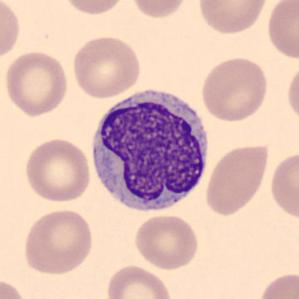Monocyte: (86, 83, 214, 218)
RBC: (202, 141, 270, 217), (21, 207, 94, 276), (199, 55, 270, 123), (70, 34, 143, 100), (22, 136, 92, 203), (3, 48, 70, 117), (132, 213, 201, 271), (195, 0, 270, 36), (103, 262, 174, 299), (267, 148, 299, 222), (264, 0, 298, 61), (0, 0, 22, 62), (129, 0, 190, 21), (255, 270, 299, 298), (60, 0, 128, 16), (285, 61, 299, 126), (0, 275, 31, 299)
